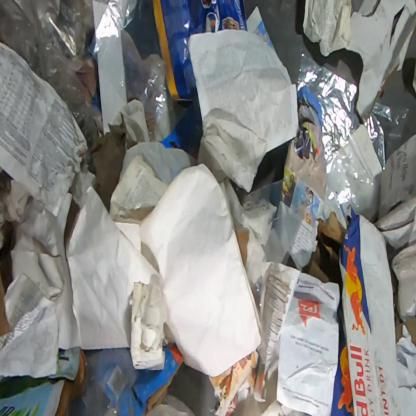cardboard: (330, 213, 405, 416), (54, 343, 185, 415), (346, 0, 415, 124)
soft_plastic: (298, 52, 392, 230), (0, 0, 104, 149), (87, 0, 188, 143), (242, 174, 307, 266), (302, 210, 346, 284)
